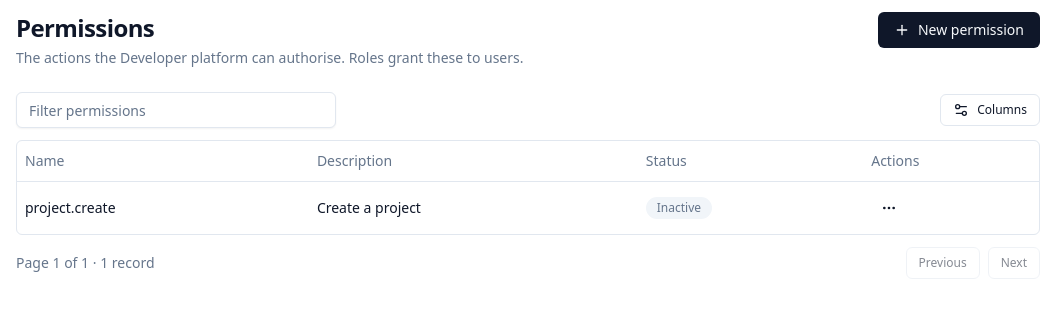
PermissionsPage — deactivation (FR-UI7, D-5) › offers reactivation for an inactive permission
This screenshot has width=1057, height=325.
Click the button named "actions for project.create" at (889, 208), box [871,190,907,226]
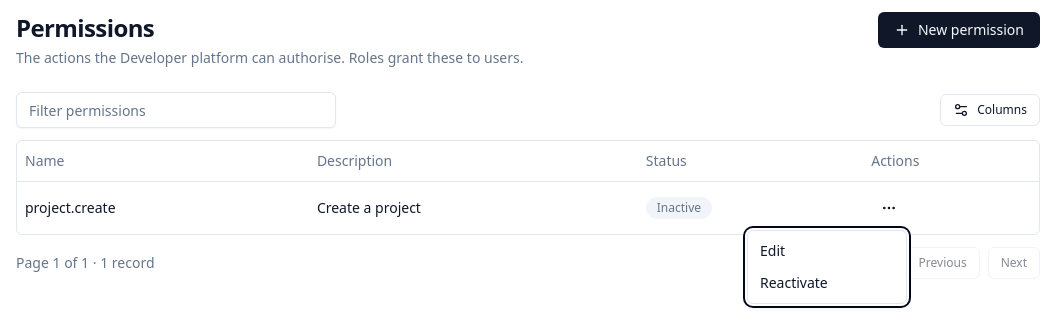
Result: the menu item "Reactivate" is shown at [760,273,828,292]
